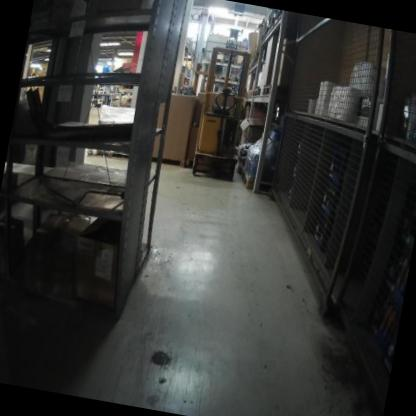pallet: (239, 168, 274, 195), (149, 153, 185, 170), (261, 80, 289, 101), (250, 85, 261, 98), (219, 74, 232, 82), (232, 76, 242, 84)
pallet_truck: (190, 45, 256, 183)
